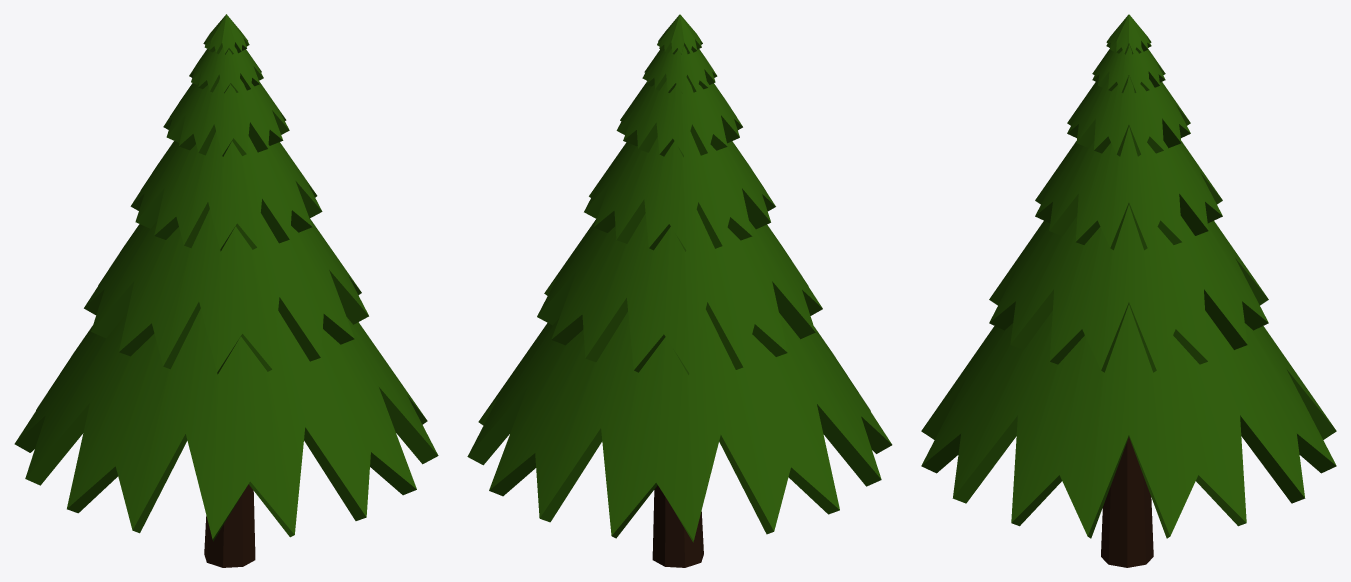
File: one_tree.glb
3 renders of one model, left to right at view 1: azimuth 30°, elevation 25°; view 2: azimuth 150°, elevation 25°; view 3: azimuth 270°, elevation 25°, orthographic.
Parts seen in each view (by area): view 1: Окружность.001; view 2: Окружность.001; view 3: Окружность.001.
Part boxes in pixels (x1,y1,x2,y2): Окружность.001: (14,14,438,567); Окружность.001: (467,14,892,567); Окружность.001: (921,14,1336,567).
Size of the model in its own units: 1.78 by 2.56 by 1.78.
Materials: 2 (2 with a texture image).
